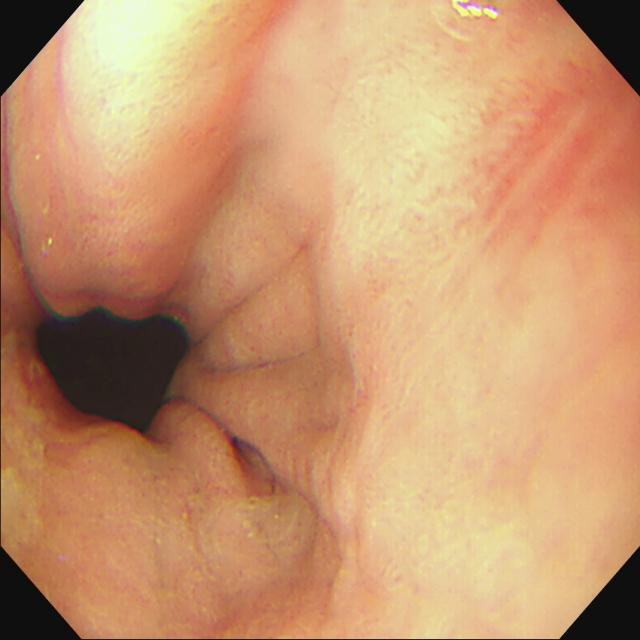E: (38, 316, 193, 433)
